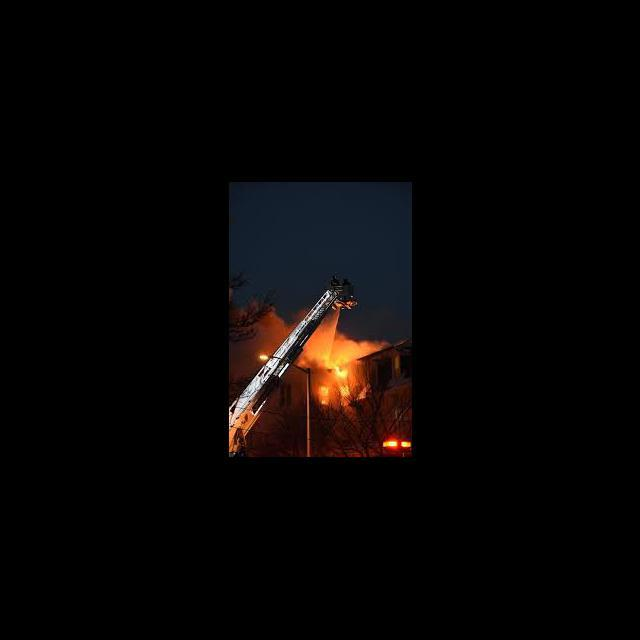Fire: (331, 382, 353, 406), (330, 357, 348, 377), (318, 384, 328, 406), (386, 439, 410, 448)
Smoke: (336, 334, 383, 356)
